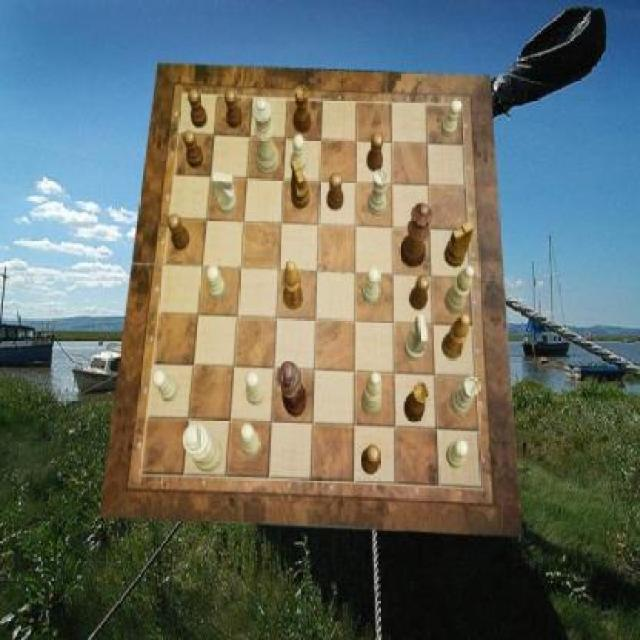bishop: (443, 314, 471, 360), (283, 260, 303, 311)
black-bishop: (278, 362, 308, 418)
black-king: (444, 222, 474, 268), (291, 158, 310, 210)
black-knight: (168, 214, 190, 250), (188, 89, 207, 129), (184, 131, 204, 168), (409, 275, 430, 310), (225, 89, 242, 129), (368, 134, 384, 174), (328, 172, 344, 210), (362, 446, 382, 476)
black-pawn: (400, 203, 433, 269)
black-queen: (292, 86, 312, 136), (405, 382, 429, 423)
black-rook: (444, 266, 474, 316), (362, 372, 382, 415)
white-bishop: (183, 425, 223, 472)
white-king: (404, 315, 428, 361), (212, 172, 237, 215)
white-knight: (154, 371, 180, 403), (442, 100, 462, 138), (446, 438, 469, 469), (247, 371, 266, 405), (207, 265, 226, 299), (240, 425, 260, 457), (290, 134, 306, 174), (362, 268, 379, 304)
white-pawn: (252, 99, 280, 174)
white-queen: (449, 377, 479, 417), (368, 170, 388, 216)
